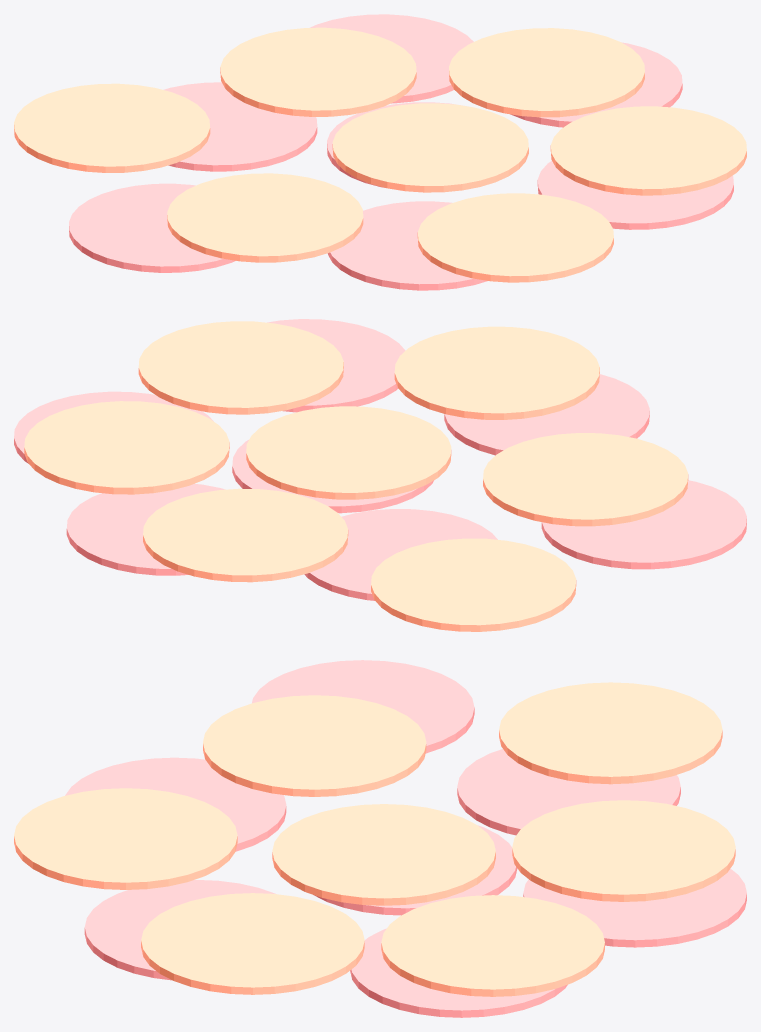
Rendered from crusheddragonpepper.fbx.
3 views of the same model, one above another, from view 1: azimuth 30°, elevation 25°; view 2: azimuth 150°, elevation 25°; view 3: azimuth 270°, elevation 25° (orthographic). The views are drawn at different scales.
Parts seen in each view (by area): view 1: Cylinder.001, Cylinder; view 2: Cylinder.001, Cylinder; view 3: Cylinder.001, Cylinder.
Boxes of the visible parts, left/top/right/bottom form: Cylinder.001: left=14, top=27, right=746, bottom=282; Cylinder: left=69, top=14, right=733, bottom=290; Cylinder.001: left=24, top=321, right=688, bottom=631; Cylinder: left=14, top=319, right=746, bottom=600; Cylinder.001: left=14, top=682, right=735, bottom=996; Cylinder: left=65, top=660, right=746, bottom=1017.
Size of the model in its own units: 59.18 by 1.19 by 52.32.
